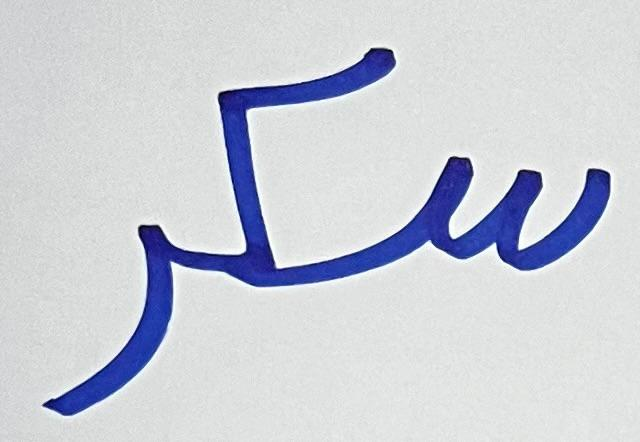kaf: (198, 24, 396, 293)
reh: (28, 222, 188, 425)
seen: (400, 144, 622, 297)
